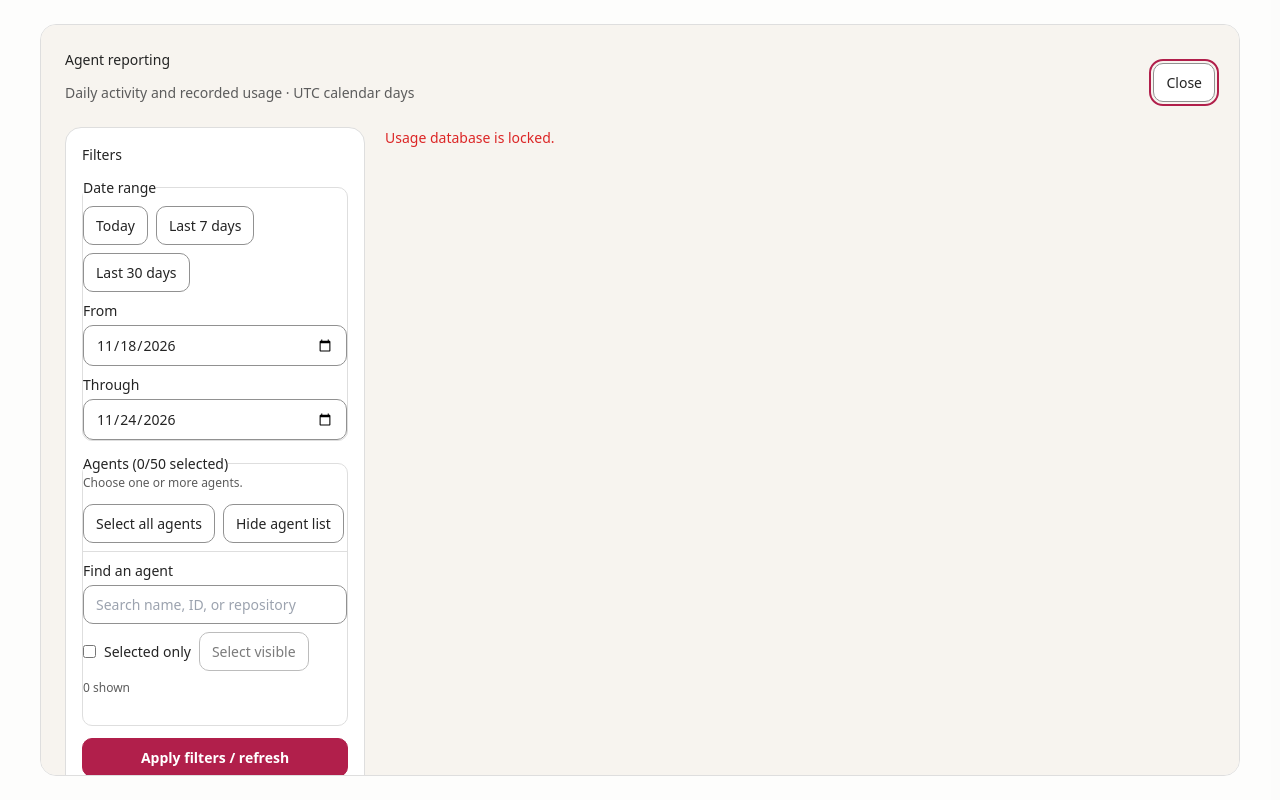
Test case: agent reporting › reports load failures, supports retry, and closes with Escape
The width and height of the screenshot is (1280, 800).
Later steps or results of the test are not shown.
Check: the message reads "Usage database is locked.", box [385,128,554,147]
What coordinates should you click on to do the following:
click the button "Apply filters / refresh"
I would click on:
 (215, 758)
Its box is [82,738,348,777].
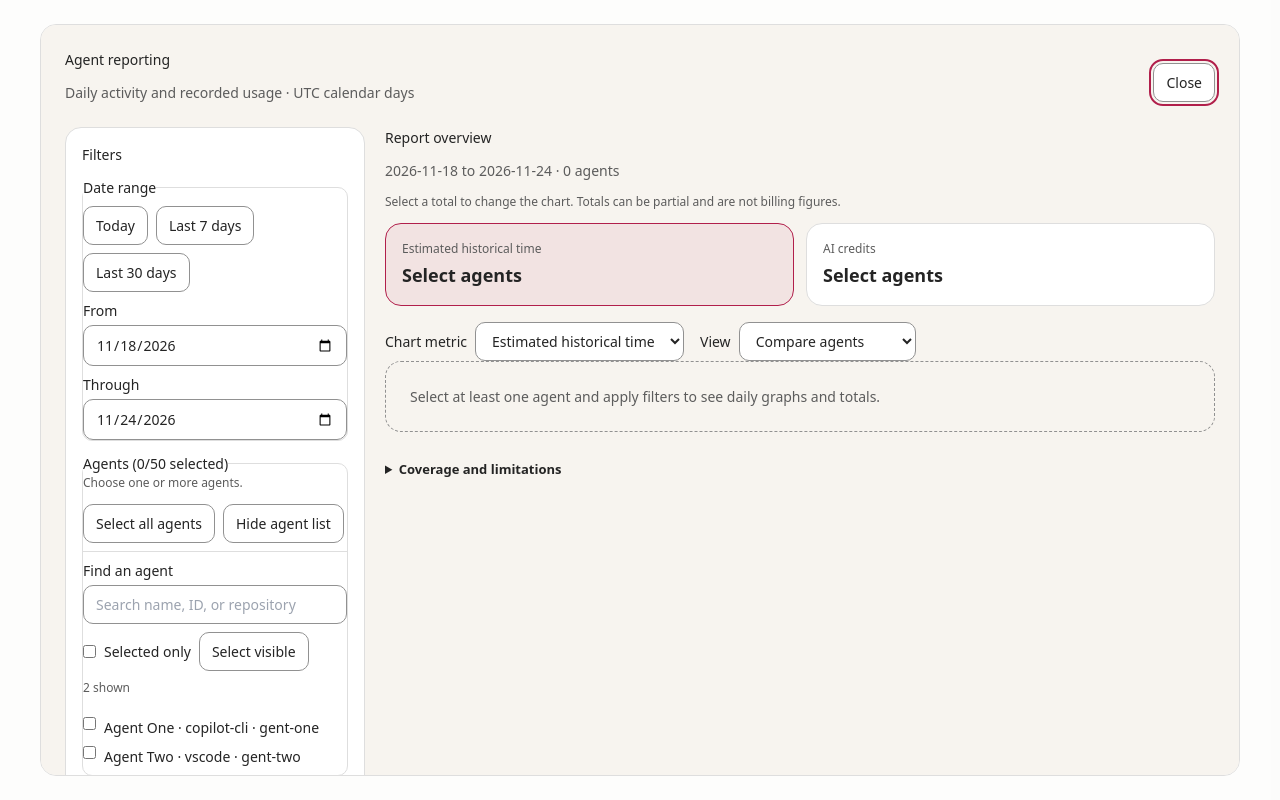
Check: the text "Select at least one agent" is shown, box [410,387,880,406]
